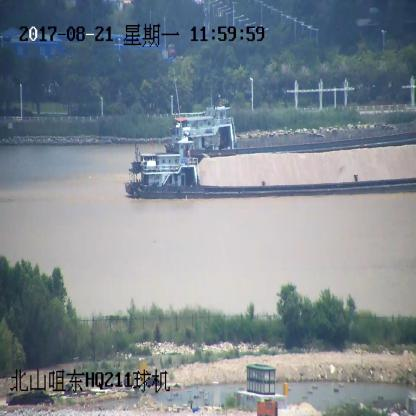Bulk Carrier: (168, 106, 416, 158)
